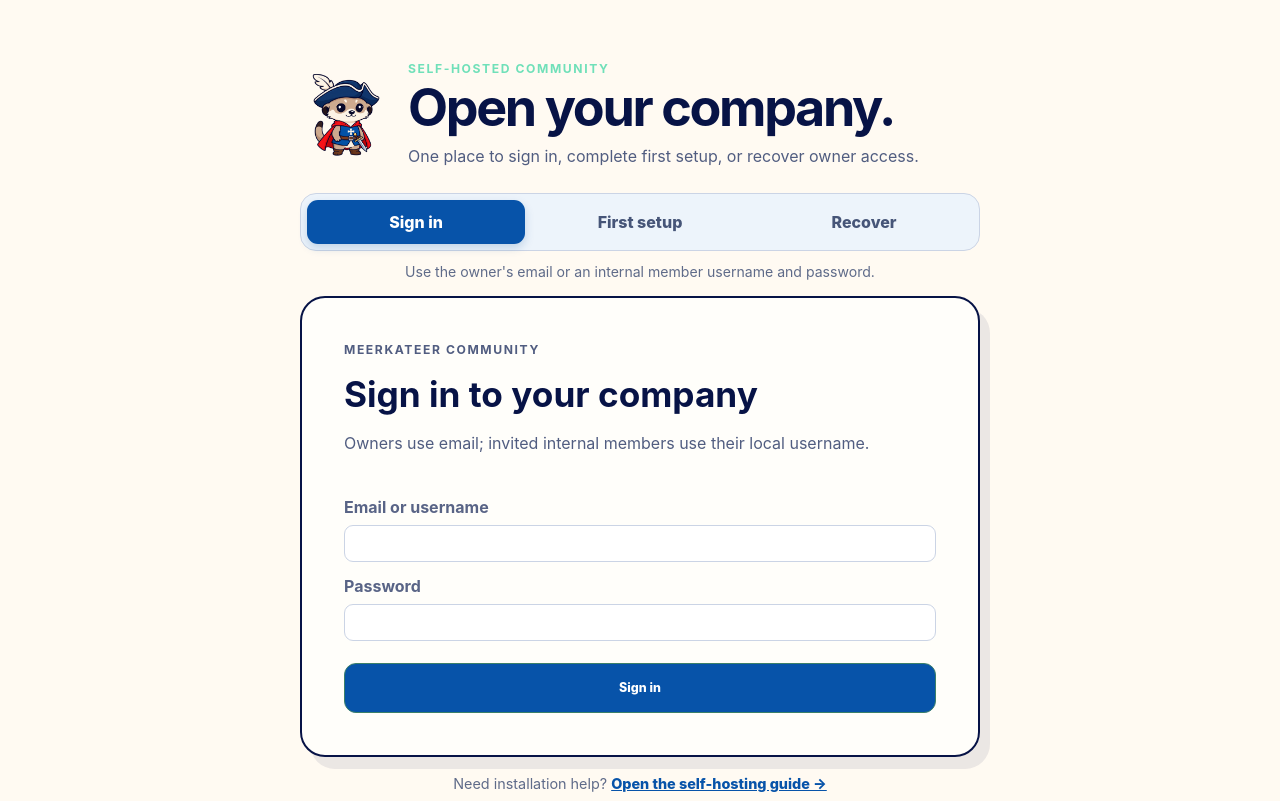
it: App › signs in with owner email and password and explains invalid credentials
expect the form is shown: met, box [344,497,936,713]
Type "Owner@Example.com" into the field labelled "Email or username" at (640, 543), box [344,525,936,562]
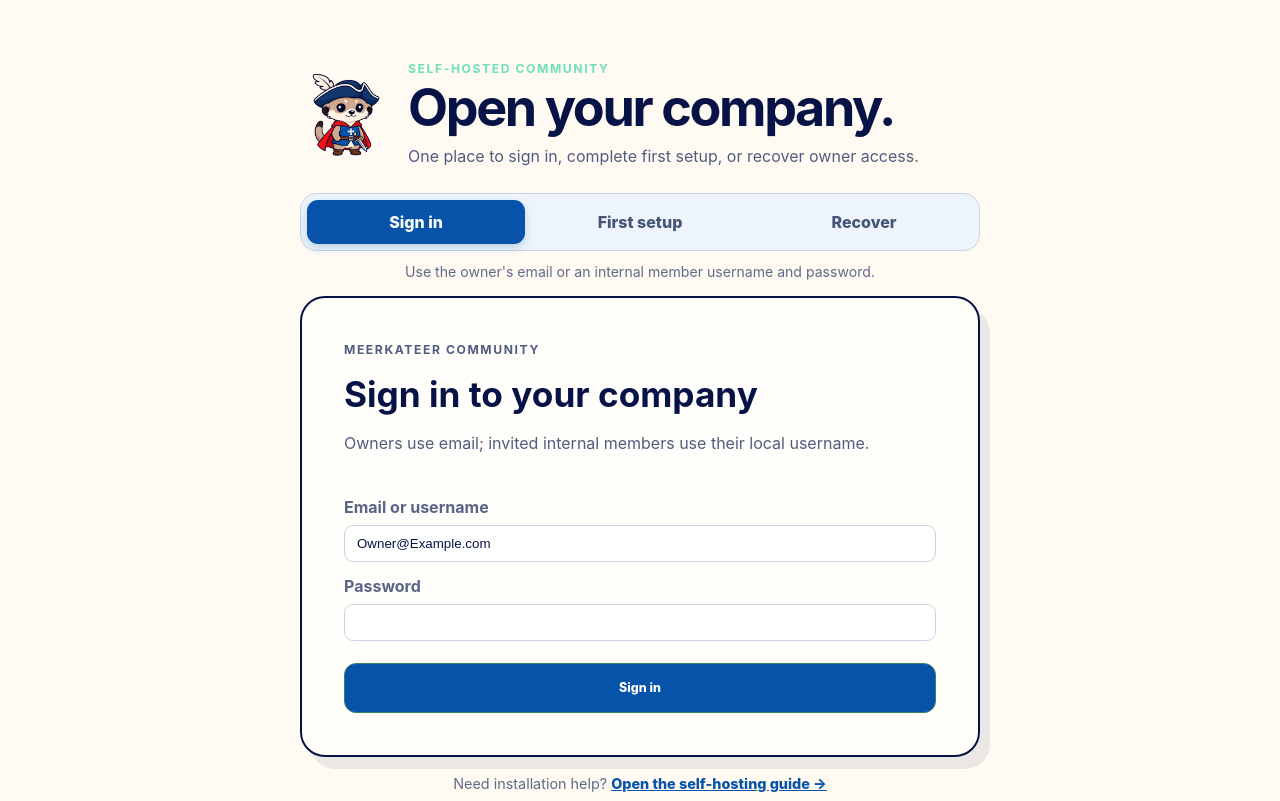
Type "long-test-password" into the password field labelled "Password" at (640, 622), box [344,604,936,641]
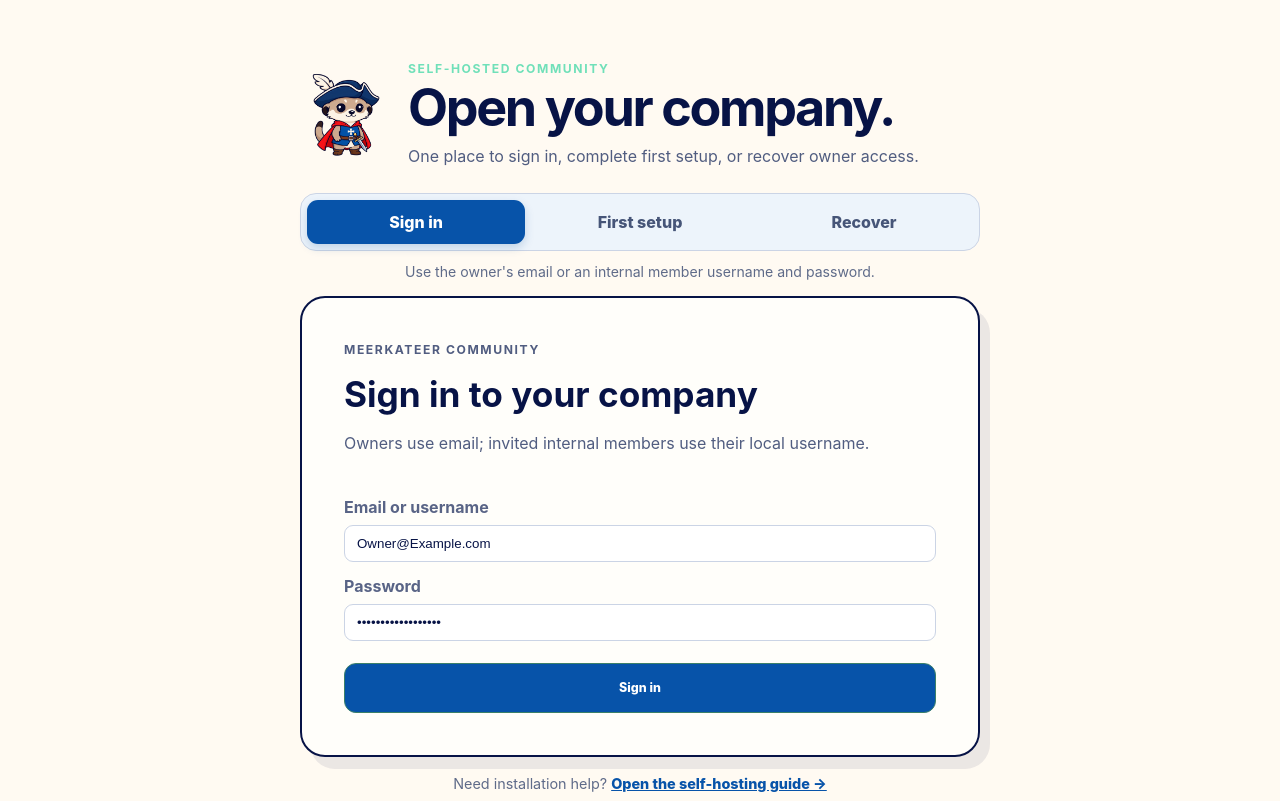
Submit the form, box [344,497,936,713]
(page scrolled)
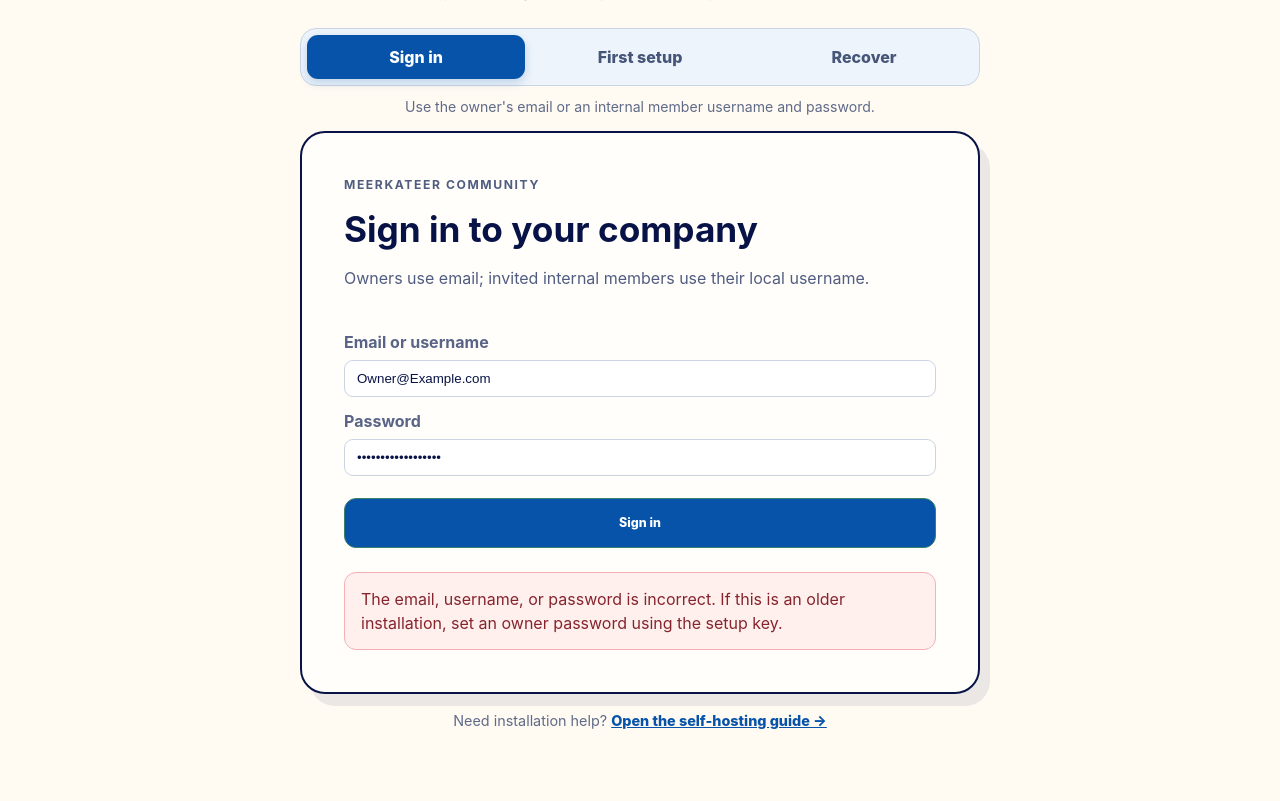
expect the text "The email, username, or password is incorrect" is shown: met, box [361,589,845,633]
